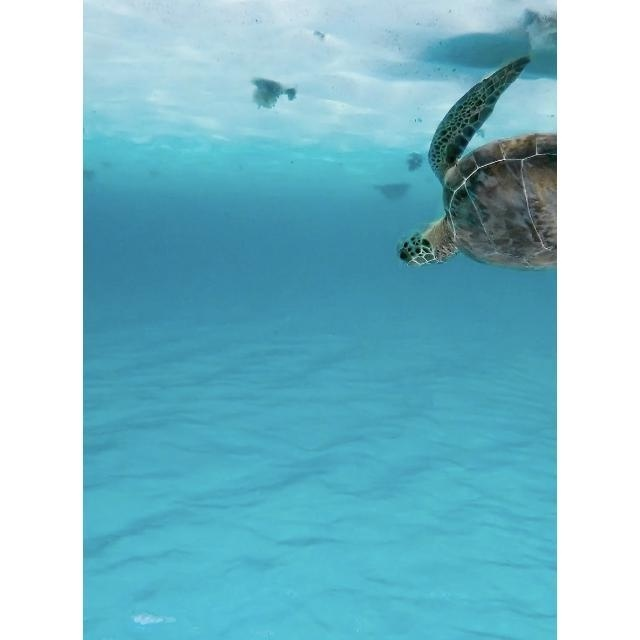turtle: (396, 53, 556, 269)
